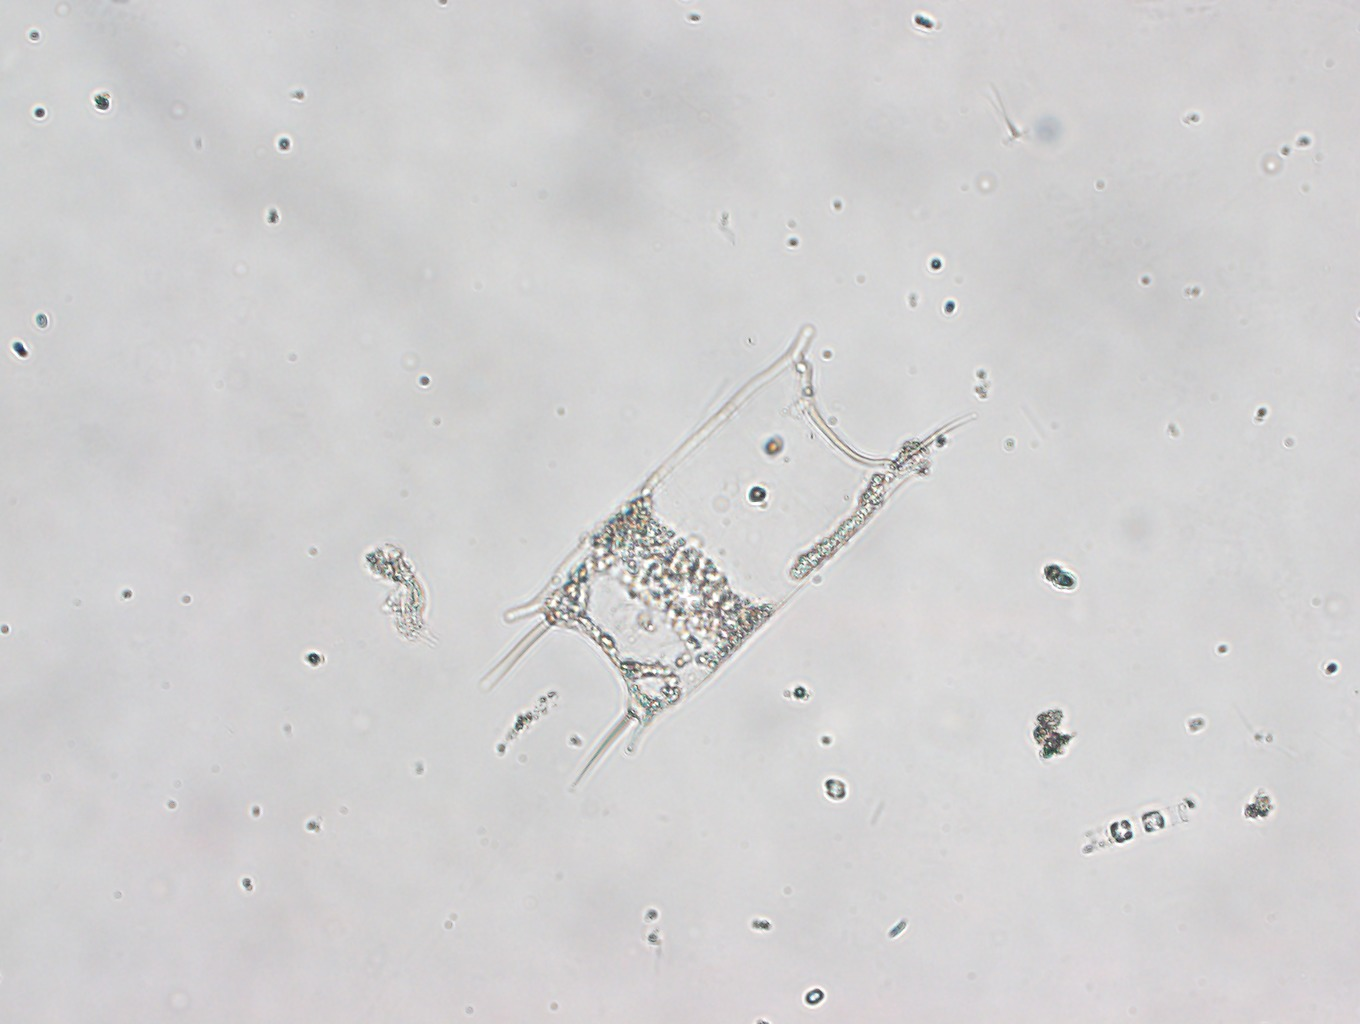biddulphia: (466, 312, 980, 797)
skeletonema: (1075, 794, 1198, 867)
